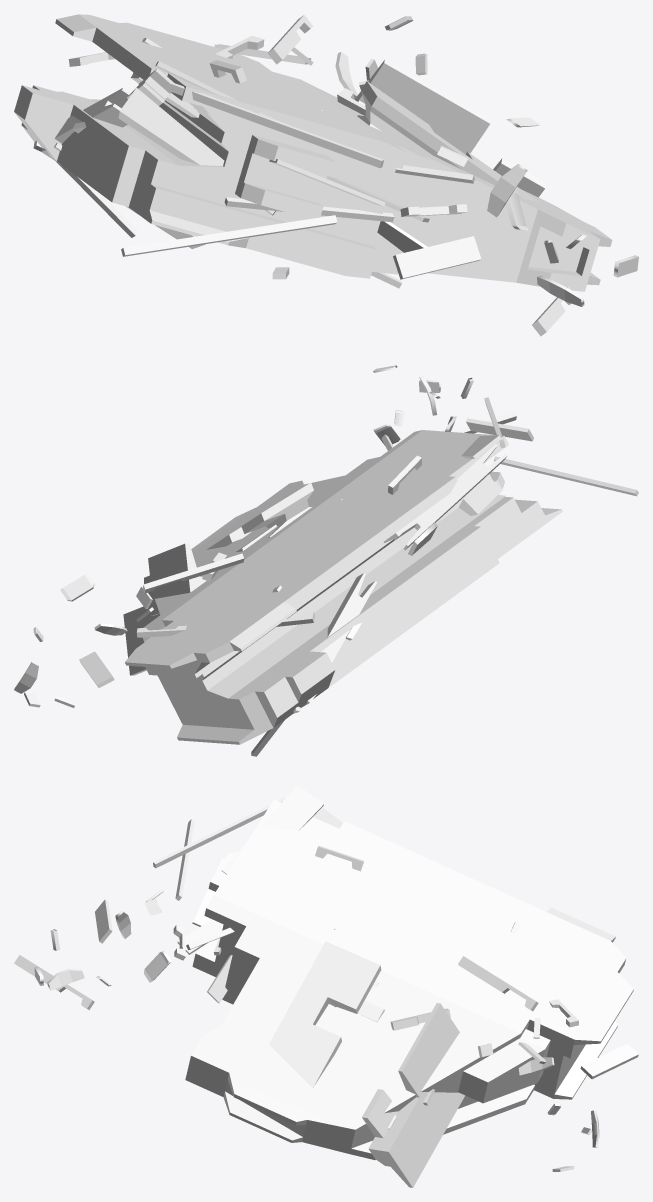
File: kpr_derelict_ruin_01.glb
The picture shows the model from 3 angles, top to bottom: view 1: azimuth 30°, elevation 25°; view 2: azimuth 150°, elevation 25°; view 3: azimuth 270°, elevation 25°; orthographic projection. The views are drawn at different scales.
Visible parts, largest first — view 1: kpr_derelict_ruin_01_LOD1, kpr_derelict_ruin_01_debris_LOD1; view 2: kpr_derelict_ruin_01_LOD1, kpr_derelict_ruin_01_debris_LOD1; view 3: kpr_derelict_ruin_01_LOD1, kpr_derelict_ruin_01_debris_LOD1.
Boxes of the visible parts, x1,y1,x2,y2 form: kpr_derelict_ruin_01_LOD1: (14,14,612,291); kpr_derelict_ruin_01_debris_LOD1: (33,15,638,336); kpr_derelict_ruin_01_LOD1: (125,430,562,744); kpr_derelict_ruin_01_debris_LOD1: (14,365,638,756); kpr_derelict_ruin_01_LOD1: (185,799,633,1159); kpr_derelict_ruin_01_debris_LOD1: (14,785,638,1187).
Bounding box in the file's own units: 46.19 × 28.61 × 62.4.
2 materials, 2 textured.
